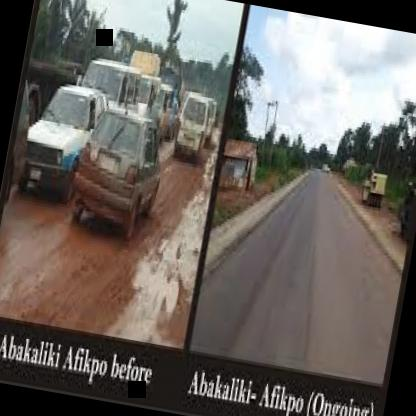car: (15, 68, 122, 206), (72, 99, 171, 245), (168, 82, 213, 176)
